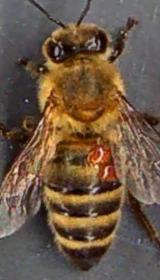varroa_mite: (90, 163, 120, 190), (80, 142, 115, 163)
